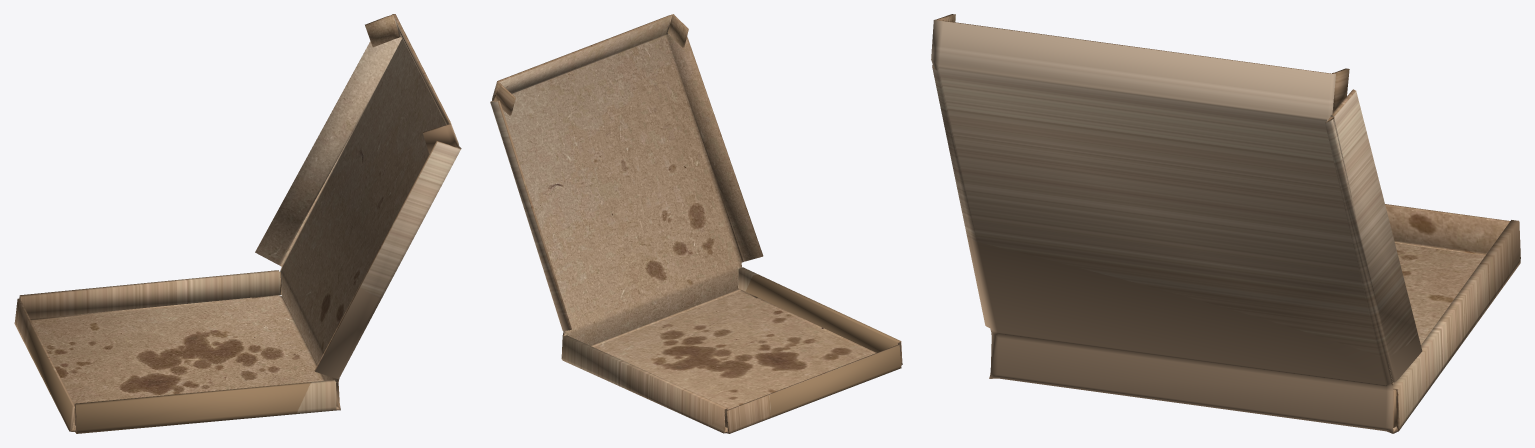
Rendered from pizza qutu.fbx.
The picture shows the model from 3 angles, left to right: view 1: azimuth 30°, elevation 25°; view 2: azimuth 150°, elevation 25°; view 3: azimuth 270°, elevation 25°; orthographic projection. The views are drawn at different scales.
Parts seen in each view (by area): view 1: Box 12in; view 2: Box 12in; view 3: Box 12in.
Boxes of the visible parts, left/top/right/bottom form: Box 12in: left=14, top=14, right=461, bottom=433; Box 12in: left=490, top=14, right=902, bottom=433; Box 12in: left=931, top=14, right=1520, bottom=433.
Bounding box in the file's own units: 6.05 × 3.99 × 4.96.
